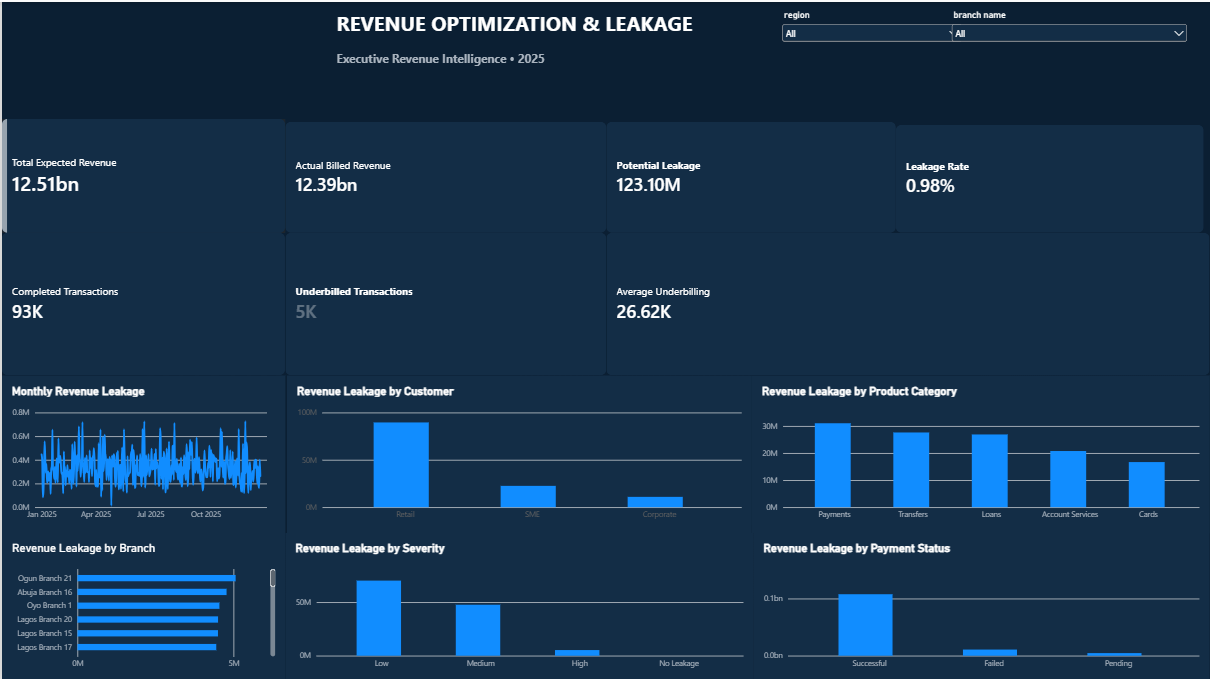

Layout of this report page (visuals, bound fields, positions):
{"tool":"powerbi","page":{"name":"Page 1","canvas":[1920,1080],"ordinal":0},"visuals":[{"type":"cardVisual","fields":{"Data":["revenue_analytics revenue_analysis.Completed Transactions"]},"box":[0,367.4,450.7,226.8],"z":0},{"type":"cardVisual","fields":{"Data":["revenue_analytics revenue_analysis.Underbilled Transactions"]},"box":[450.9,367.4,510.6,226.7],"z":1000},{"type":"cardVisual","fields":{"Data":["revenue_analytics revenue_analysis.Total Expected Revenue"]},"box":[0,186.1,450.9,181.3],"z":2000},{"type":"cardVisual","fields":{"Data":["revenue_analytics revenue_analysis.Actual Billed Revenue"]},"box":[450.9,190.9,510.6,176.6],"z":3000},{"type":"cardVisual","fields":{"Data":["revenue_analytics revenue_analysis.Potential Leakage"]},"box":[961.5,190.9,460.5,176.6],"z":4000},{"type":"cardVisual","fields":{"Data":["revenue_analytics revenue_analysis.Leakage Rate"]},"box":[1422,195.6,489.1,171.8],"z":5000},{"type":"cardVisual","fields":{"Data":["revenue_analytics revenue_analysis.Average Underbilling"]},"box":[961.5,367.4,959.1,226.7],"z":6000},{"type":"clusteredColumnChart","title":"Revenue Leakage by Payment Status","fields":{"Category":["revenue_analytics leakage_by_payment_status.payment_status"],"Y":["Sum(revenue_analytics leakage_by_payment_status.potential_underbilling)"]},"box":[1195.3,844.6,725.3,236.2],"z":7000},{"type":"clusteredBarChart","title":"Revenue Leakage by Branch","fields":{"Category":["revenue_analytics branch_leakage_performance.branch_name"],"Y":["Sum(revenue_analytics branch_leakage_performance.total_underbilling)"]},"box":[0,844.6,450.9,236.2],"z":8000},{"type":"clusteredColumnChart","title":"Revenue Leakage by Severity","fields":{"Category":["revenue_analytics leakage_severity.leakage_severity"],"Y":["Sum(revenue_analytics leakage_severity.total_potential_leakage)"]},"box":[450.9,844.6,744.4,236.2],"z":9000},{"type":"slicer","fields":{"Values":["revenue_analytics revenue_analysis.region"]},"box":[1235.9,11.9,295.9,178.9],"z":10000},{"type":"slicer","fields":{"Values":["revenue_analytics branches_clean.branch_name"]},"box":[1505.5,11.9,384.1,183.7],"z":11000},{"type":"lineChart","title":"Monthly Revenue Leakage","fields":{"Category":["revenue_analytics revenue_analysis.transaction_date"],"Y":["revenue_analytics revenue_analysis.Monthly Potential Leakage"]},"box":[0,594.1,450.9,250.5],"z":12000},{"type":"clusteredColumnChart","title":"Revenue Leakage by Product Category","fields":{"Category":["revenue_analytics revenue_analysis.product_category"],"Y":["revenue_analytics revenue_analysis.Product Potential Leakage"]},"box":[1193,594.1,727.7,250.5],"z":13000},{"type":"clusteredColumnChart","title":"Revenue Leakage by Customer","fields":{"Category":["revenue_analytics revenue_analysis.customer_segment"],"Y":["revenue_analytics revenue_analysis.Customer Segment Leakage"]},"box":[453.3,594.1,739.6,250.5],"z":14000},{"type":"textbox","box":[532.9,11.3,686,110.6],"z":15000},{"type":"textbox","box":[532.9,76.5,566.9,45.4],"z":16000}]}

Visuals, with their boxes in screenshot pixels (x1, y1, x2, y2), scaled from the page's 1920x1080 canvas onto the 1210x679 screenshot:
cardVisual - revenue_analytics revenue_analysis.Completed Transactions: BBox(0, 231, 284, 374)
cardVisual - revenue_analytics revenue_analysis.Underbilled Transactions: BBox(284, 231, 606, 374)
cardVisual - revenue_analytics revenue_analysis.Total Expected Revenue: BBox(0, 117, 284, 231)
cardVisual - revenue_analytics revenue_analysis.Actual Billed Revenue: BBox(284, 120, 606, 231)
cardVisual - revenue_analytics revenue_analysis.Potential Leakage: BBox(606, 120, 896, 231)
cardVisual - revenue_analytics revenue_analysis.Leakage Rate: BBox(896, 123, 1204, 231)
cardVisual - revenue_analytics revenue_analysis.Average Underbilling: BBox(606, 231, 1209, 374)
"Revenue Leakage by Payment Status" clusteredColumnChart: BBox(753, 531, 1209, 678)
"Revenue Leakage by Branch" clusteredBarChart: BBox(0, 531, 284, 678)
"Revenue Leakage by Severity" clusteredColumnChart: BBox(284, 531, 753, 678)
slicer - revenue_analytics revenue_analysis.region: BBox(779, 7, 965, 120)
slicer - revenue_analytics branches_clean.branch_name: BBox(949, 7, 1191, 123)
"Monthly Revenue Leakage" lineChart: BBox(0, 374, 284, 531)
"Revenue Leakage by Product Category" clusteredColumnChart: BBox(752, 374, 1209, 531)
"Revenue Leakage by Customer" clusteredColumnChart: BBox(286, 374, 752, 531)
textbox: BBox(336, 7, 768, 77)
textbox: BBox(336, 48, 693, 77)
